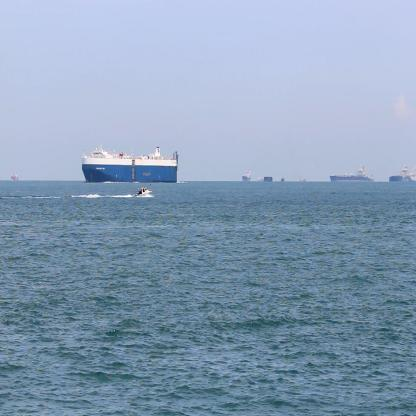Container Ship: (80, 141, 179, 188), (328, 164, 368, 183), (386, 164, 416, 183), (240, 166, 252, 183), (368, 171, 376, 183)
